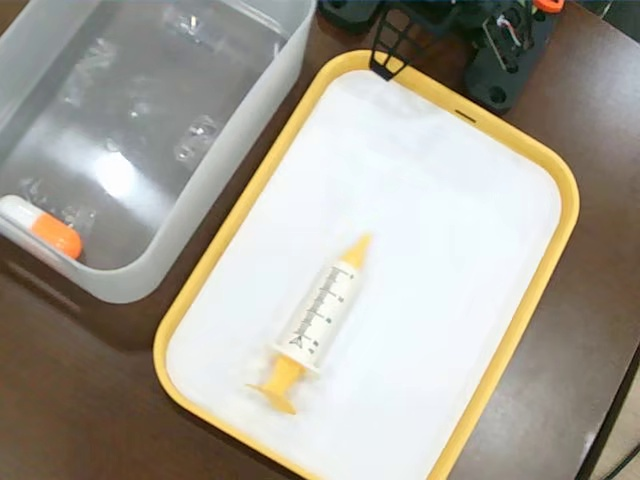pill: (1, 195, 83, 265)
syringe: (246, 231, 375, 418)
